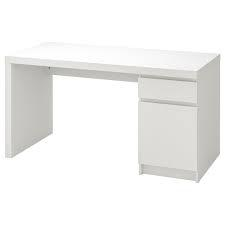desk: (3, 25, 221, 187)
